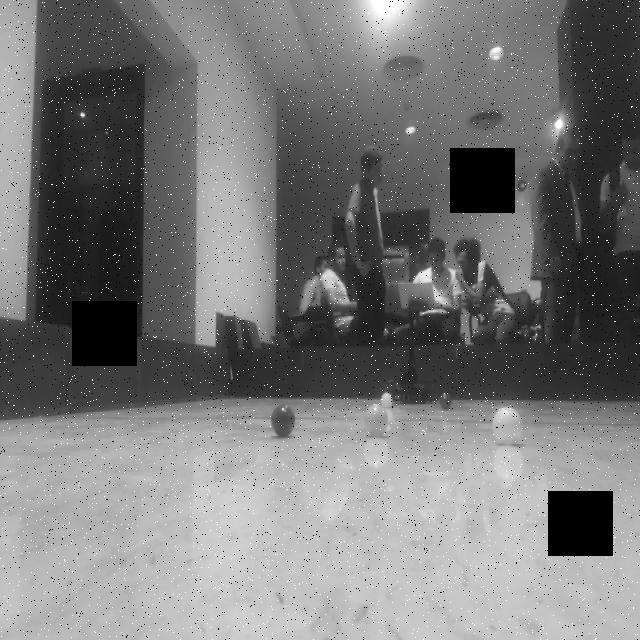ball: (491, 405, 529, 447), (267, 399, 298, 438), (362, 401, 391, 440), (378, 385, 398, 412), (436, 391, 456, 414)
